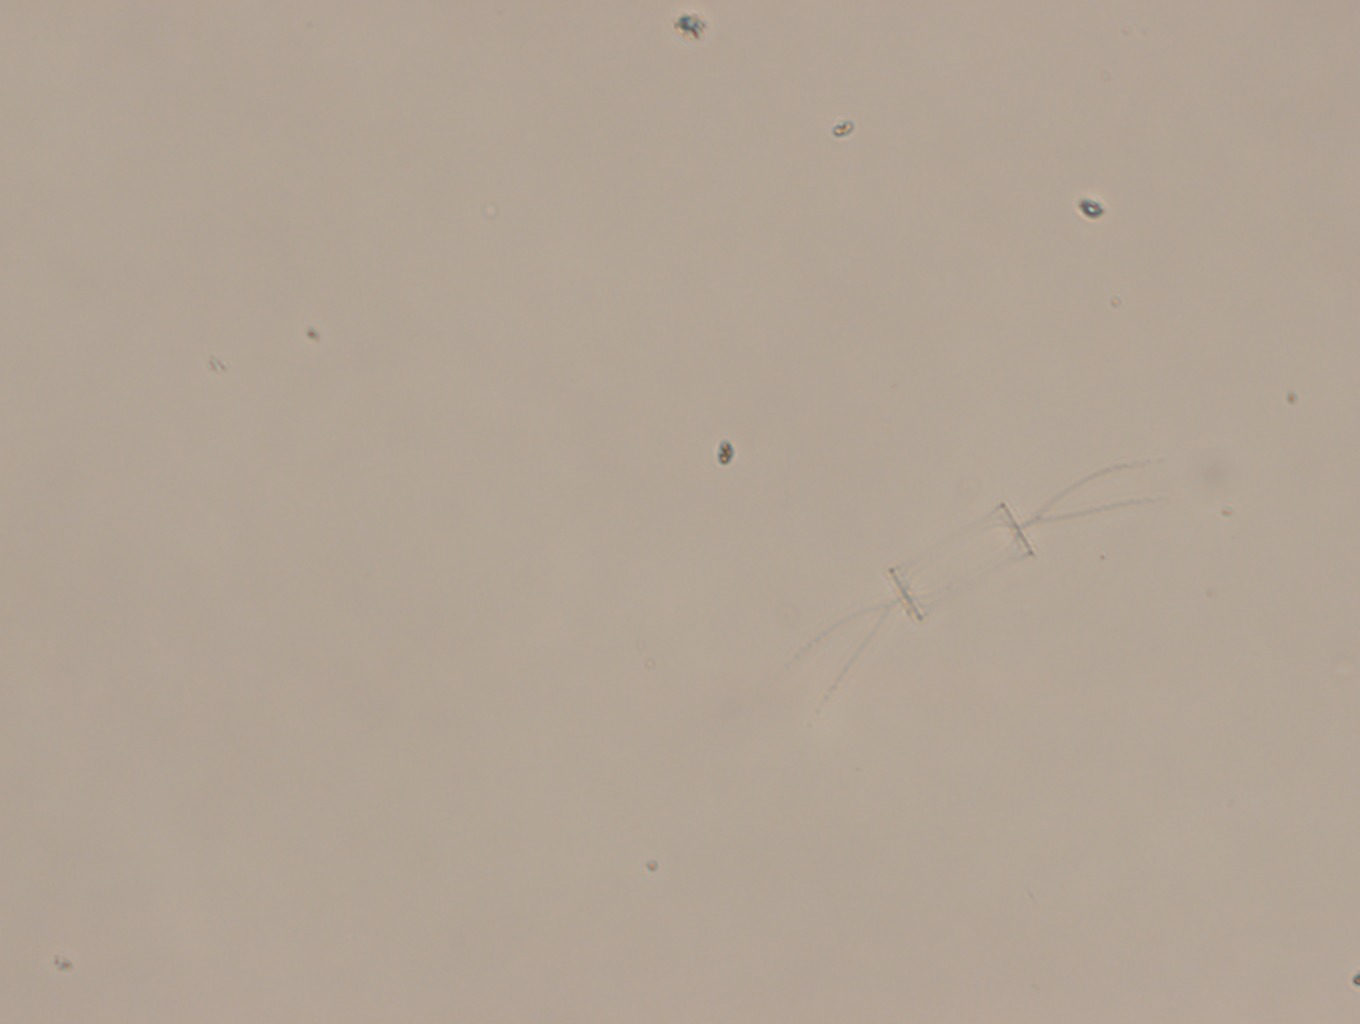chaetoceros: (783, 450, 1166, 710)
